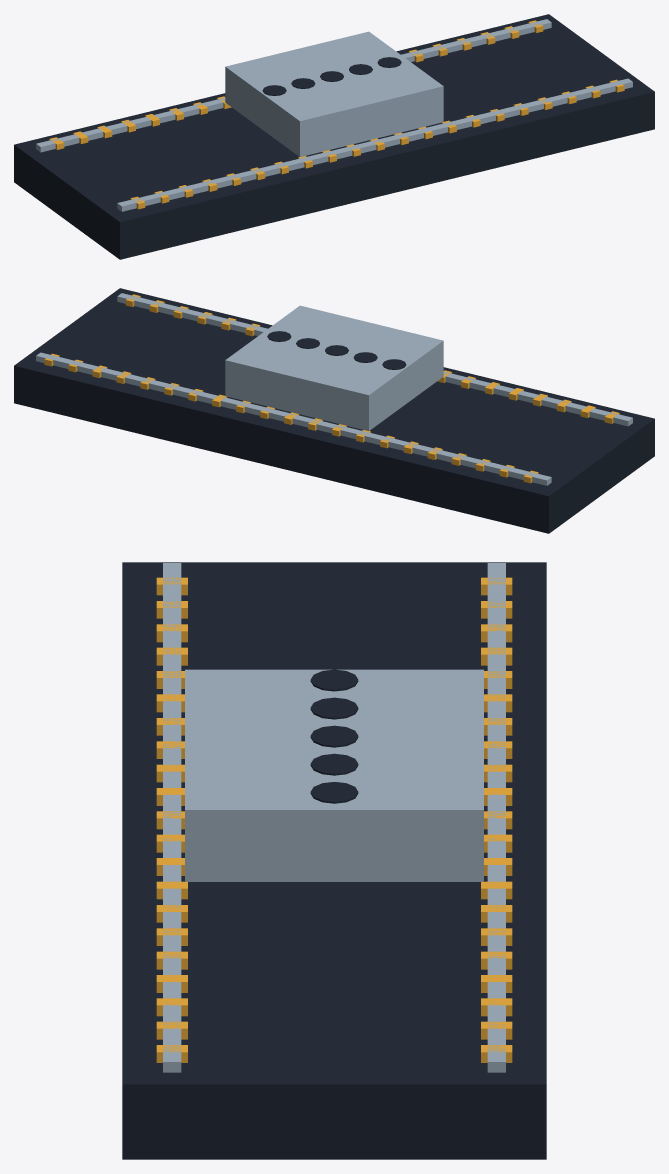
File: 06_L86_RobotLinearTraverseRail.fbx
3 renders of one model, top to bottom at view 1: azimuth 30°, elevation 25°; view 2: azimuth 150°, elevation 25°; view 3: azimuth 270°, elevation 25°, orthographic. The views are drawn at different scales.
Parts seen in each view (by area): view 1: L86_RobotLinearTraverseRail, L86_RobotLinearTraverseRail_Part_0005, L86_RobotLinearTraverseRail_Part_0006; view 2: L86_RobotLinearTraverseRail, L86_RobotLinearTraverseRail_Part_0005, L86_RobotLinearTraverseRail_Part_0006; view 3: L86_RobotLinearTraverseRail, L86_RobotLinearTraverseRail_Part_0005, L86_RobotLinearTraverseRail_Part_0006.
Part boxes in pixels (bbox=[...]): L86_RobotLinearTraverseRail: bbox=[14, 14, 654, 259]; L86_RobotLinearTraverseRail_Part_0005: bbox=[225, 31, 443, 156]; L86_RobotLinearTraverseRail_Part_0006: bbox=[262, 57, 401, 95]; L86_RobotLinearTraverseRail: bbox=[14, 288, 654, 533]; L86_RobotLinearTraverseRail_Part_0005: bbox=[225, 305, 443, 430]; L86_RobotLinearTraverseRail_Part_0006: bbox=[267, 331, 406, 369]; L86_RobotLinearTraverseRail: bbox=[122, 562, 546, 1159]; L86_RobotLinearTraverseRail_Part_0005: bbox=[185, 669, 483, 881]; L86_RobotLinearTraverseRail_Part_0006: bbox=[310, 669, 358, 803].
Bounding box in the file's own units: 670 × 96 × 230.
